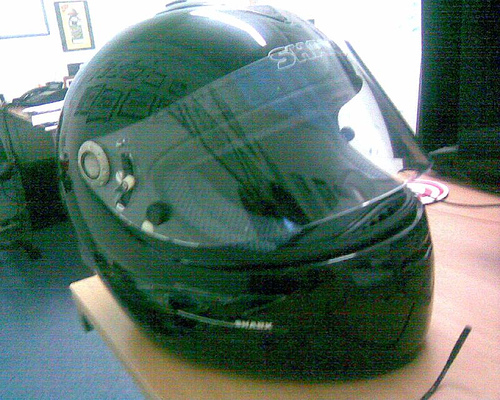helmet: (59, 20, 462, 362)
